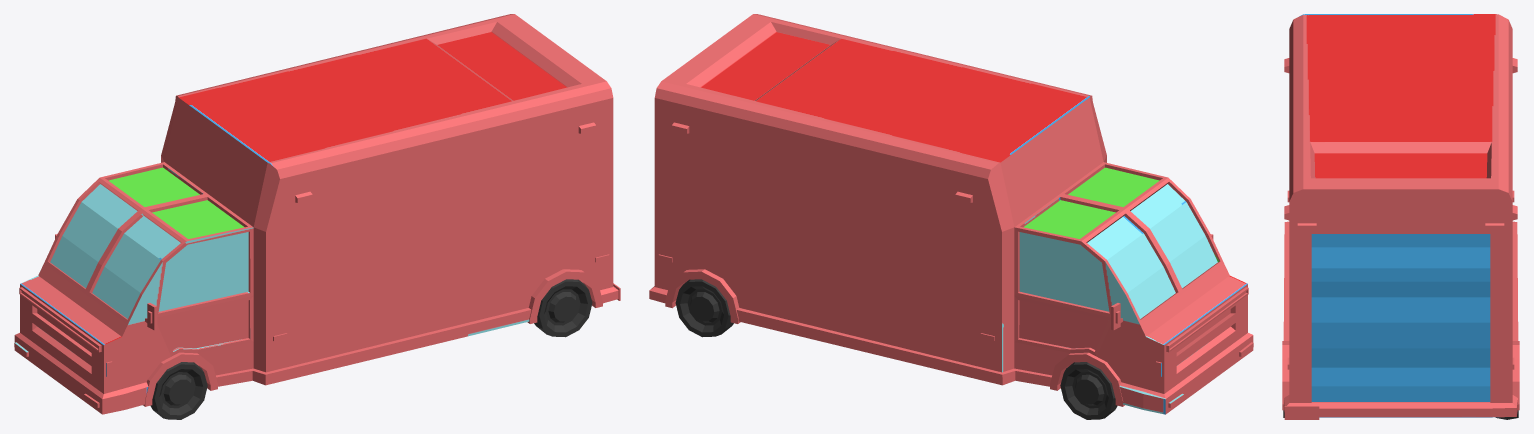
The model's file is trcukNew.fbx.
The picture shows the model from 3 angles, left to right: view 1: azimuth 30°, elevation 25°; view 2: azimuth 150°, elevation 25°; view 3: azimuth 270°, elevation 25°; orthographic projection. The views are drawn at different scales.
Parts seen in each view (by area): view 1: EL-Truck, EL-Truck_TireFL, EL-Truck_TireBL; view 2: EL-Truck, EL-Truck_TireFR, EL-Truck_TireBR; view 3: EL-Truck.
Part boxes in pixels (<box>): EL-Truck: <box>14,14,620,414</box>; EL-Truck_TireFL: <box>150,362,207,419</box>; EL-Truck_TireBL: <box>534,279,592,337</box>; EL-Truck: <box>649,14,1253,414</box>; EL-Truck_TireFR: <box>1060,362,1117,419</box>; EL-Truck_TireBR: <box>675,279,733,337</box>; EL-Truck: <box>1282,14,1519,419</box>.
Bounding box in the file's own units: 225 × 100 × 85.09.
Materials: 2 (1 with a texture image).
